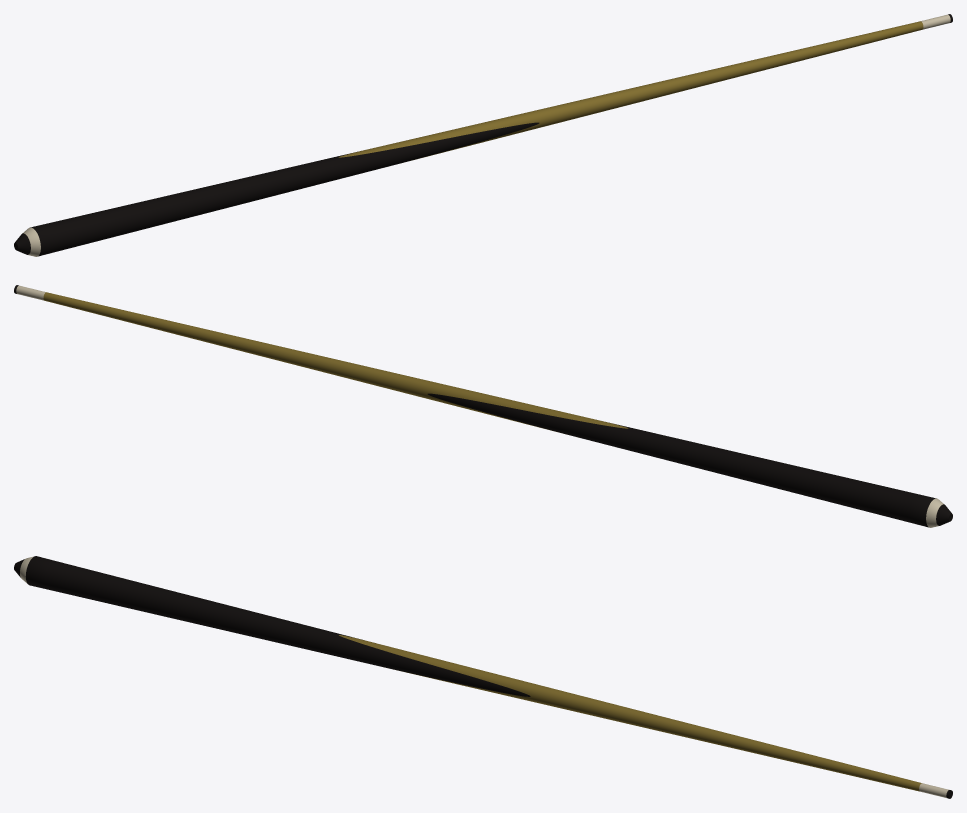
File: poolcue.glb
3 renders of one model, top to bottom at view 1: azimuth 30°, elevation 25°; view 2: azimuth 150°, elevation 25°; view 3: azimuth 330°, elevation 25°, orthographic.
Visible parts, largest first — view 1: poolcue; view 2: poolcue; view 3: poolcue.
Boxes of the visible parts, <box> form: poolcue: <box>14,14,952,256</box>; poolcue: <box>14,285,952,527</box>; poolcue: <box>14,556,952,798</box>.
Bounding box in the file's own units: 36.24 × 1.01 × 1.01.
